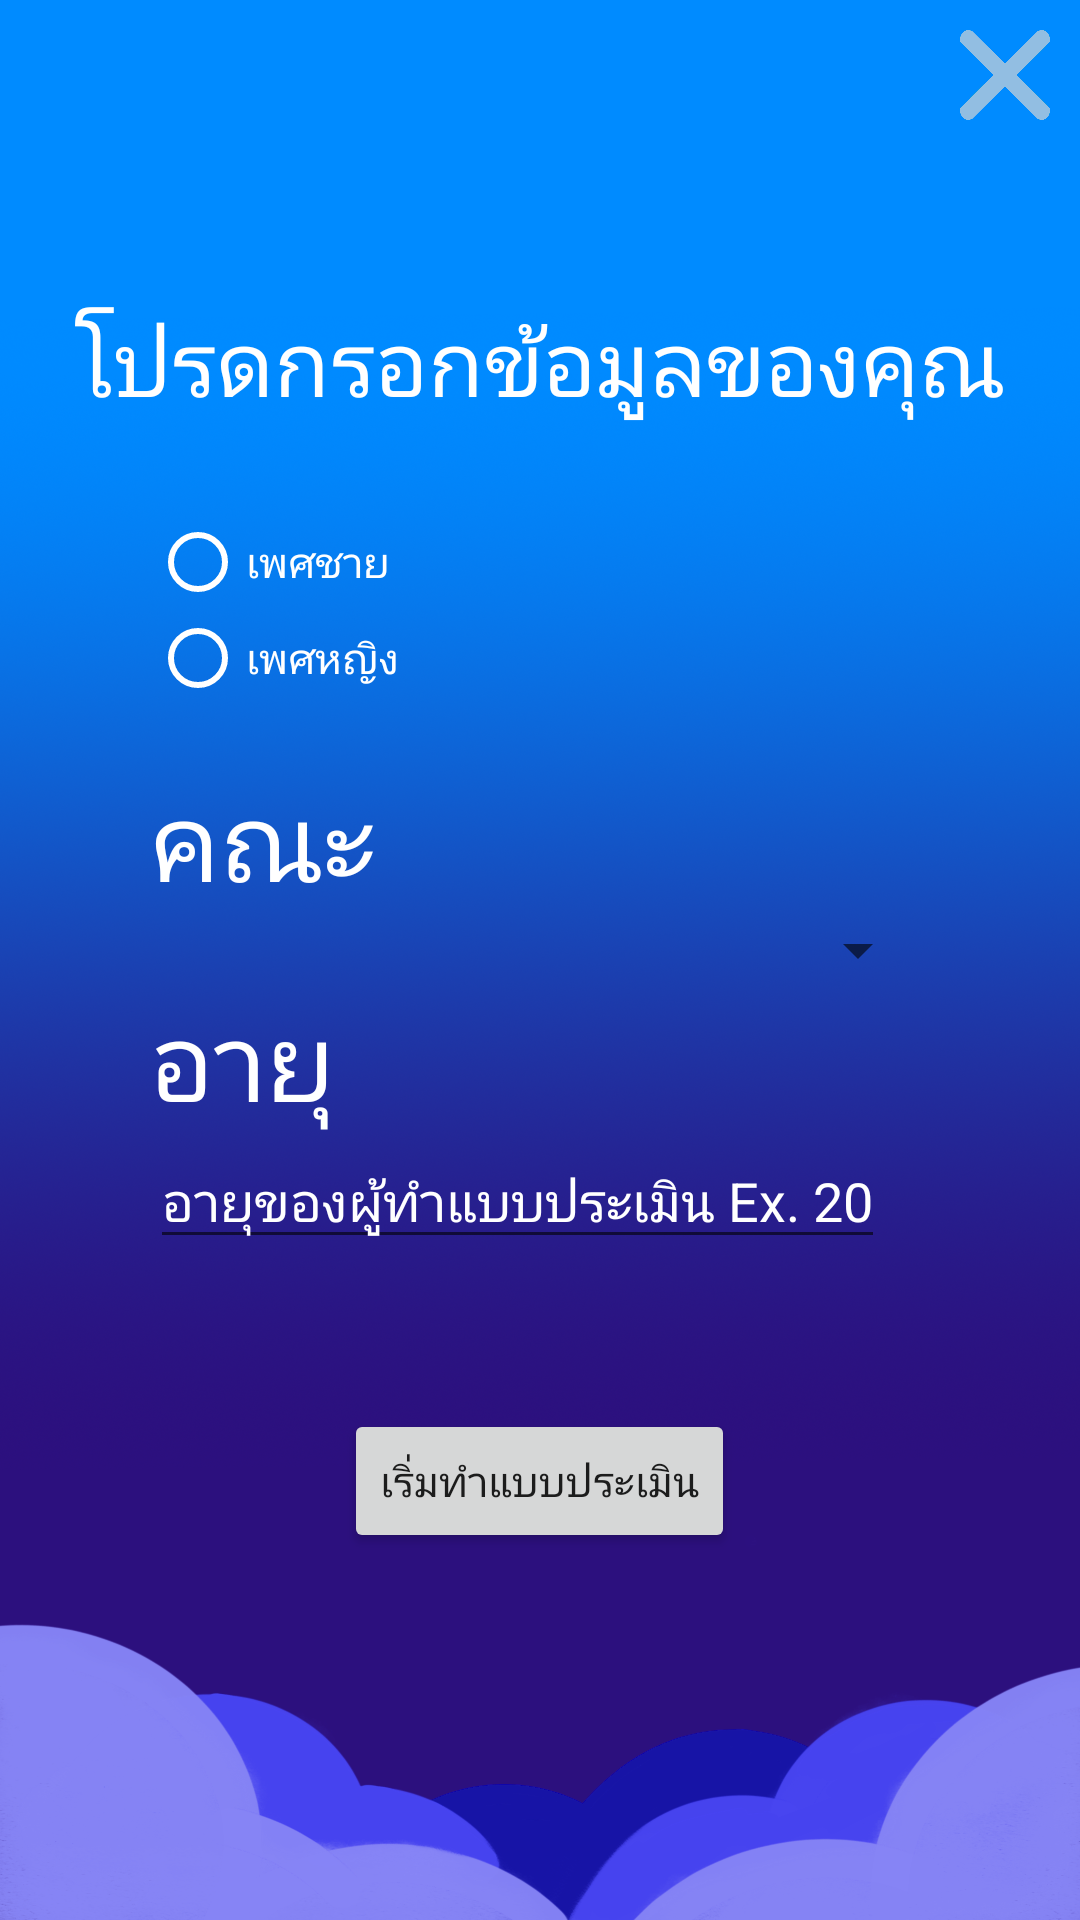

Icon bounding boxes for this 1080*1920 phone screenshot, format (x1=x1, y1=y1, x2=x2, y2=y2):
exit: (x1=960, y1=30, x2=1050, y2=120)
